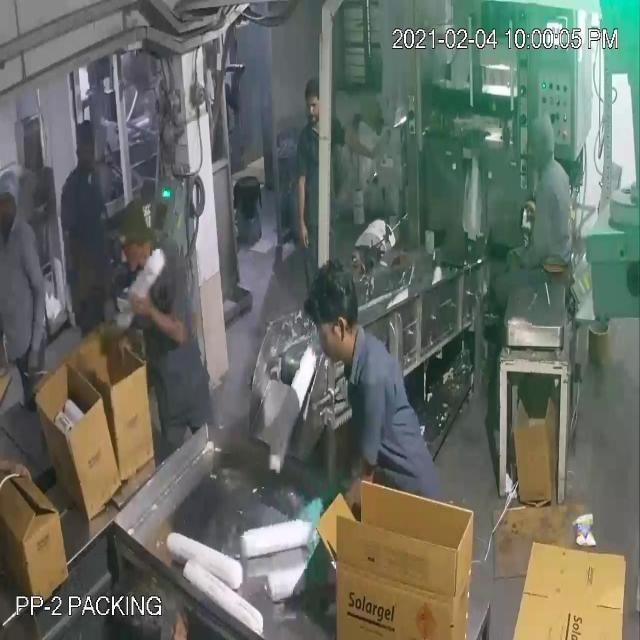No_Gloves: (24, 45, 357, 320)
